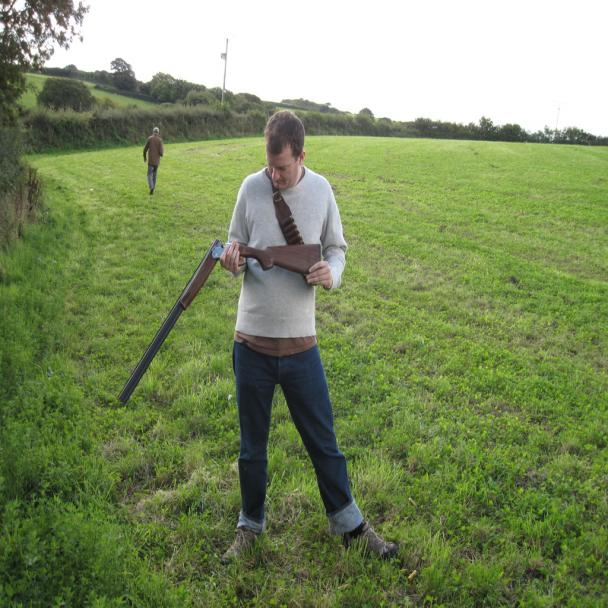Gun: (29, 236, 333, 412)
Hand: (216, 232, 250, 281), (301, 254, 336, 296)
